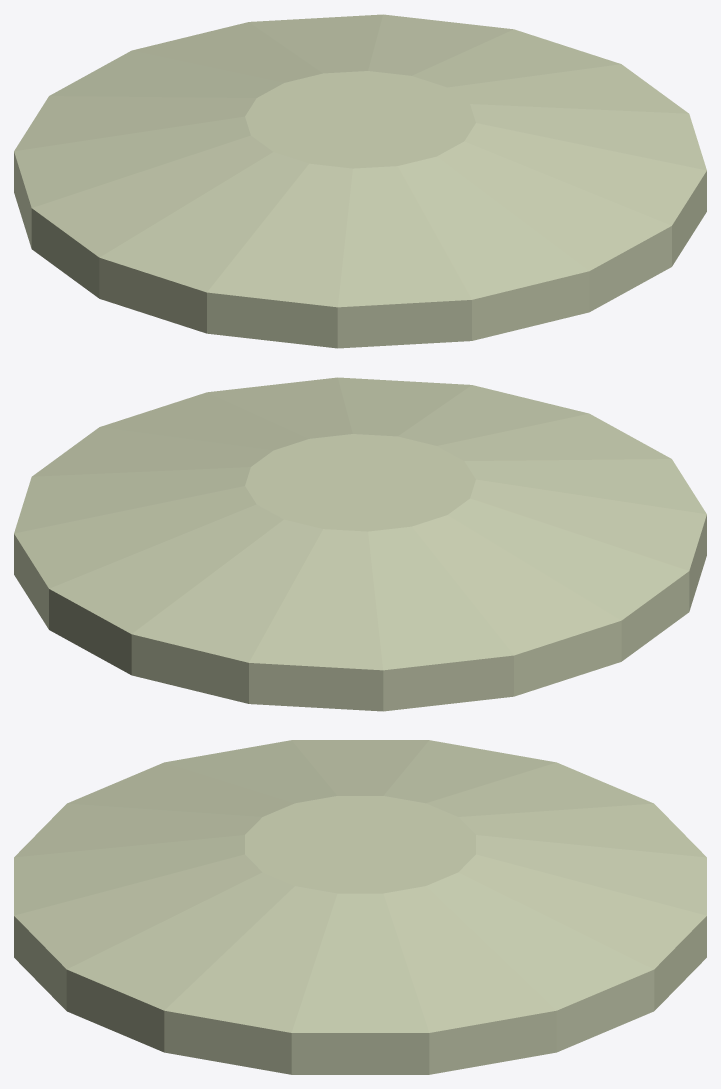
File: vega_adapter_s1p5_s0_1_collider.obj
The picture shows the model from 3 angles, top to bottom: view 1: azimuth 30°, elevation 25°; view 2: azimuth 150°, elevation 25°; view 3: azimuth 270°, elevation 25°; orthographic projection.
Parts seen in each view (by area): view 1: vega_adapter_s1p5_s0_1_collider; view 2: vega_adapter_s1p5_s0_1_collider; view 3: vega_adapter_s1p5_s0_1_collider.
Part boxes in pixels (x1,y1,x2,y2): vega_adapter_s1p5_s0_1_collider: (14,14,706,348); vega_adapter_s1p5_s0_1_collider: (14,377,706,711); vega_adapter_s1p5_s0_1_collider: (14,740,706,1074).
Size of the model in its own units: 1.88 by 0.25 by 1.88.
